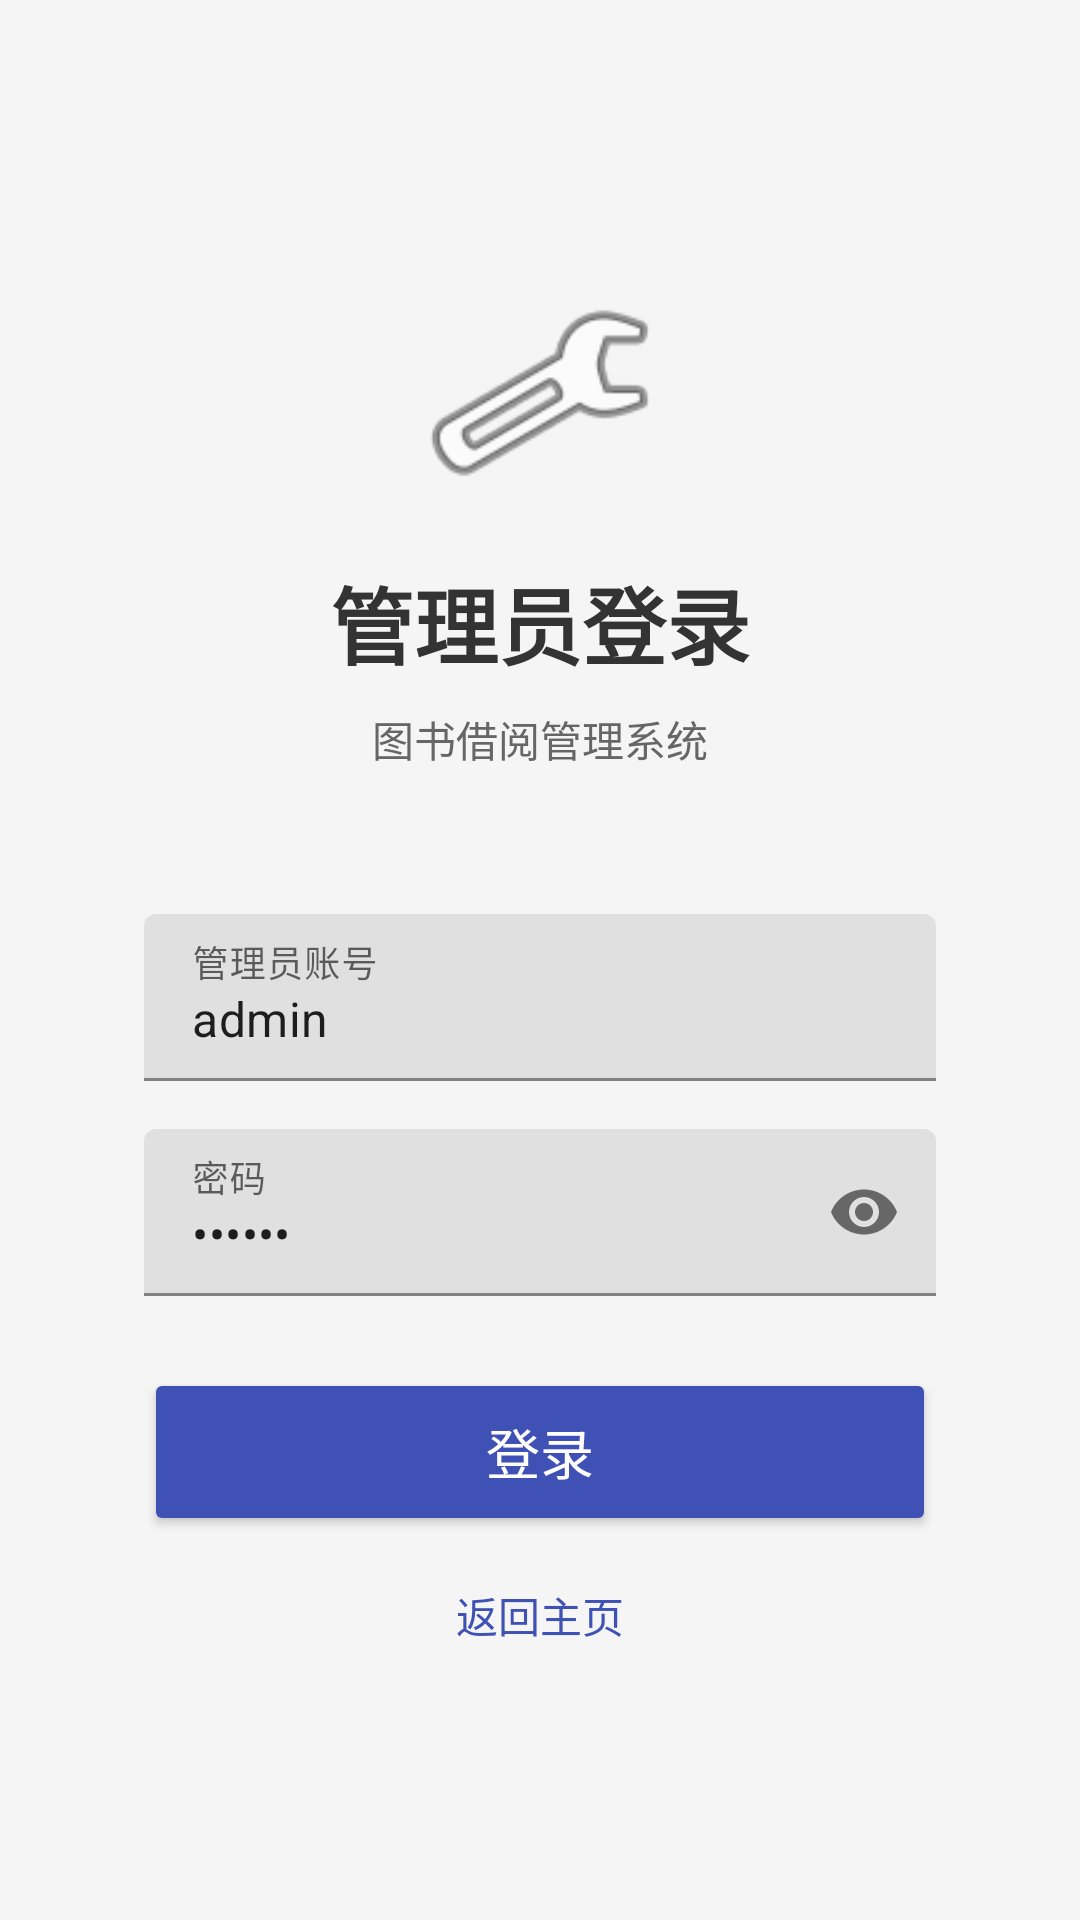

Point at icon controls on the screen. Image size 1080x1920, points as (x,y).
管理员图标: (540,393)
